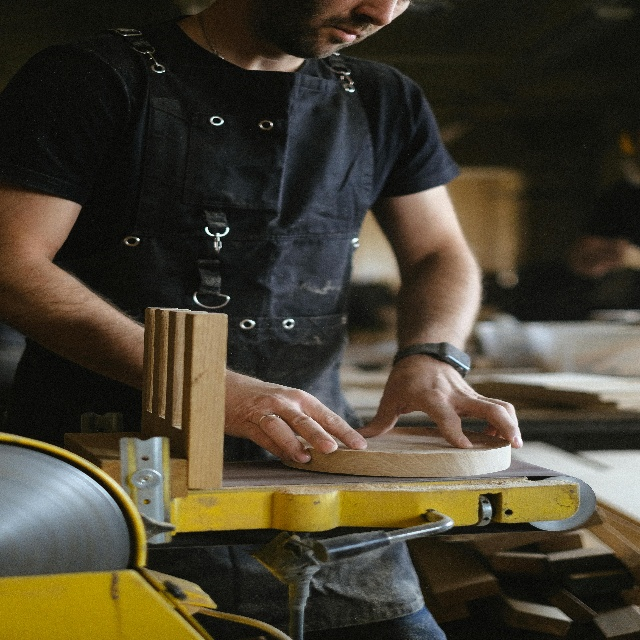Sin_guantes: (353, 353, 525, 451), (221, 364, 367, 467)
